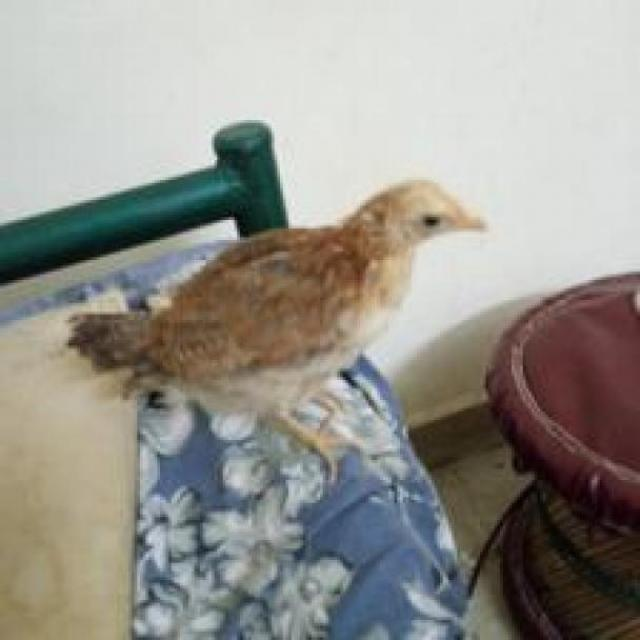Chicken: (82, 170, 513, 481)
